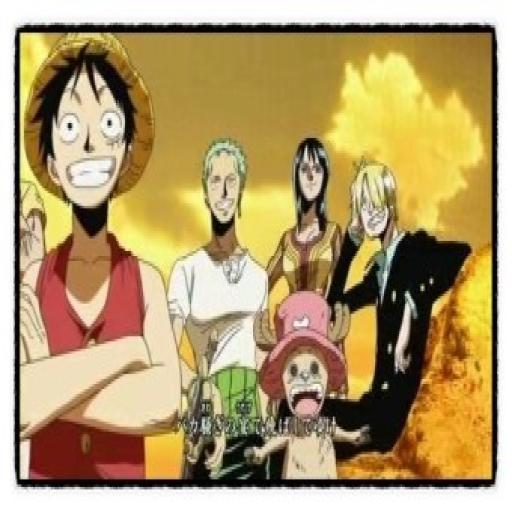Luffy: (21, 25, 160, 218)
NicoRobin: (292, 133, 331, 237)
Zoro: (197, 126, 250, 240)
sanji: (346, 148, 401, 247)
